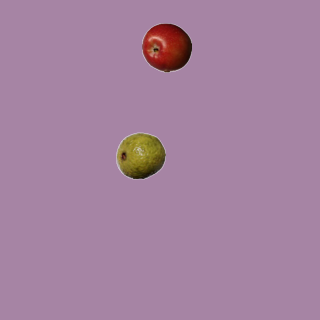Apple Braeburn: (141, 22, 191, 72)
Guava: (115, 130, 165, 180)
